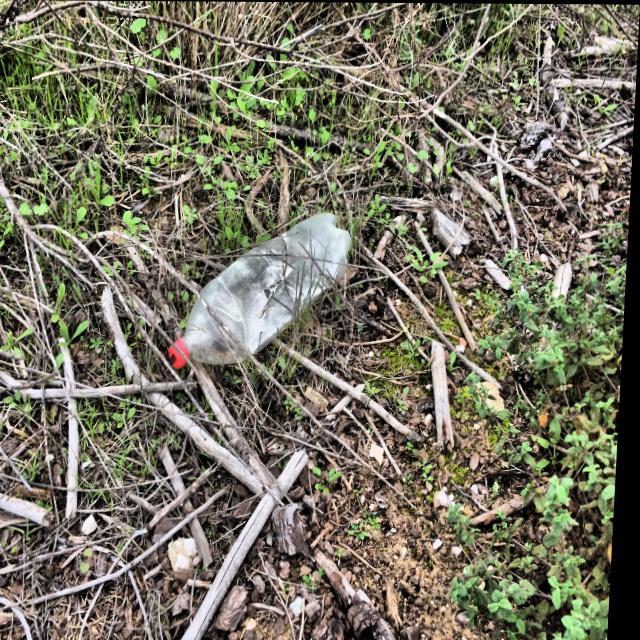Bottles: (170, 200, 368, 385)
